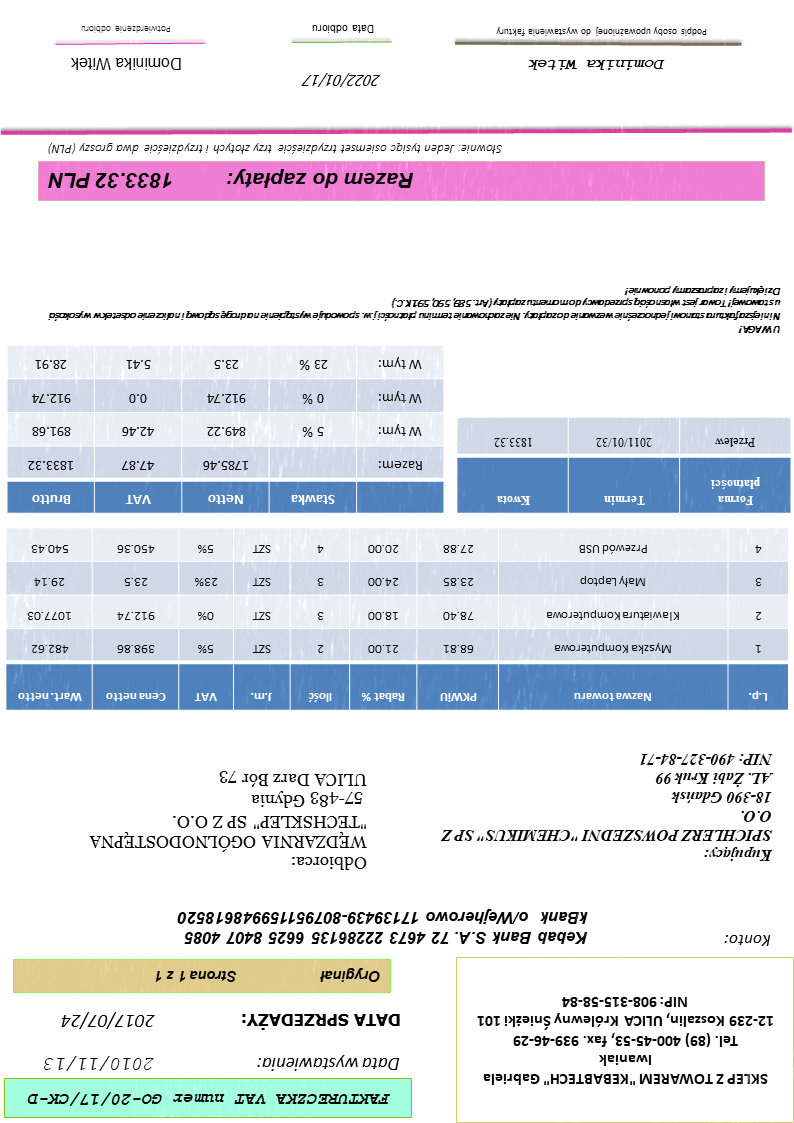Table: (4, 527, 792, 715), (6, 344, 447, 515), (458, 416, 792, 515)
TextBox: (48, 282, 785, 339), (437, 747, 775, 865), (85, 763, 370, 877), (472, 990, 776, 1093), (174, 904, 592, 951), (44, 167, 419, 194), (43, 141, 505, 159), (20, 1091, 395, 1110), (152, 964, 385, 987), (239, 1010, 404, 1033), (256, 1053, 402, 1077), (494, 24, 711, 40), (524, 55, 669, 74), (66, 54, 185, 76), (42, 1055, 155, 1076), (61, 1009, 158, 1033), (295, 69, 382, 94), (79, 19, 173, 38), (719, 928, 776, 953), (310, 20, 380, 37)
